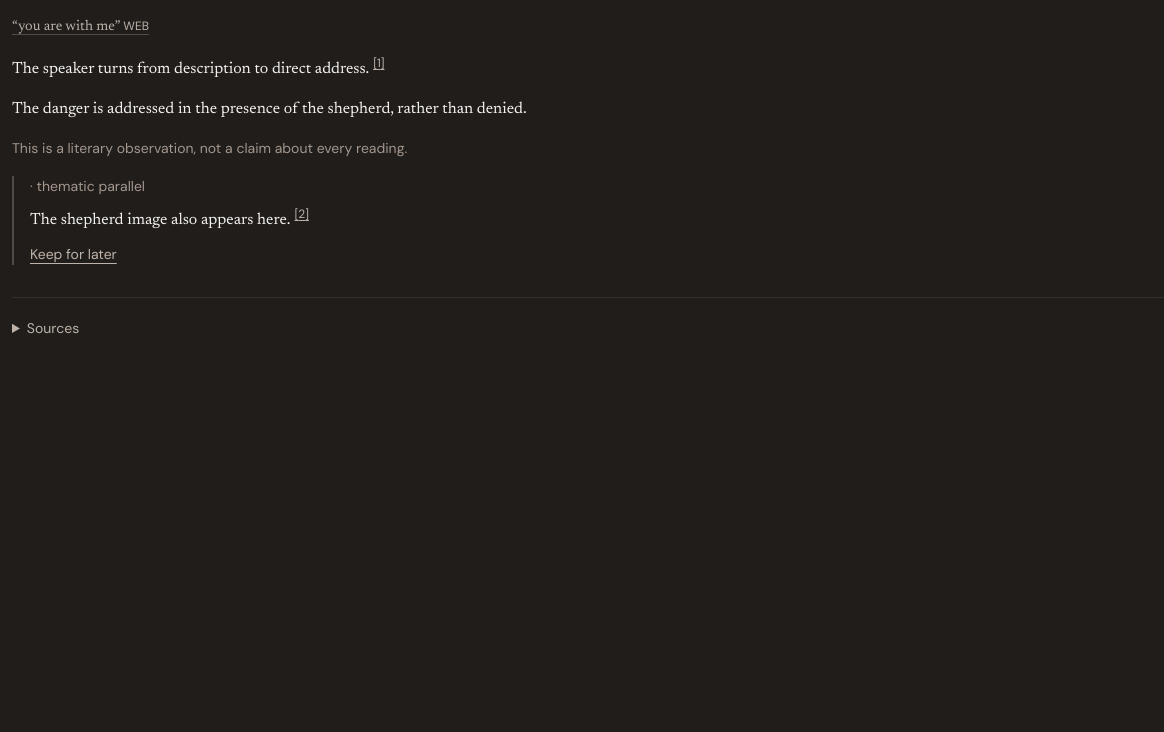
Test: Study findings stay in the reading › opens saved evidence only on demand and jumps to the actual anchor
Click the button "“you are with me” WEB" at (80, 25), box [12,12,149,38]
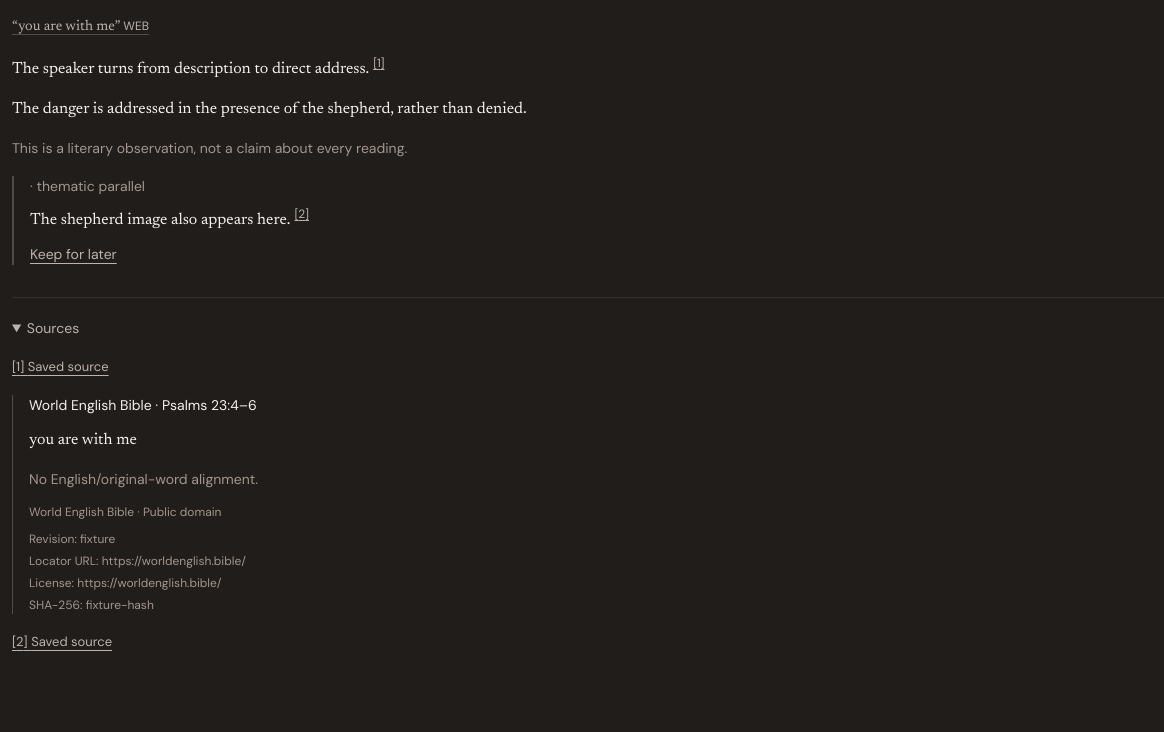
Expected: the text "Public domain" is shown, [143,504,222,520]
Expected: the text "No English/original-word alignment." is shown, [29,470,258,488]
